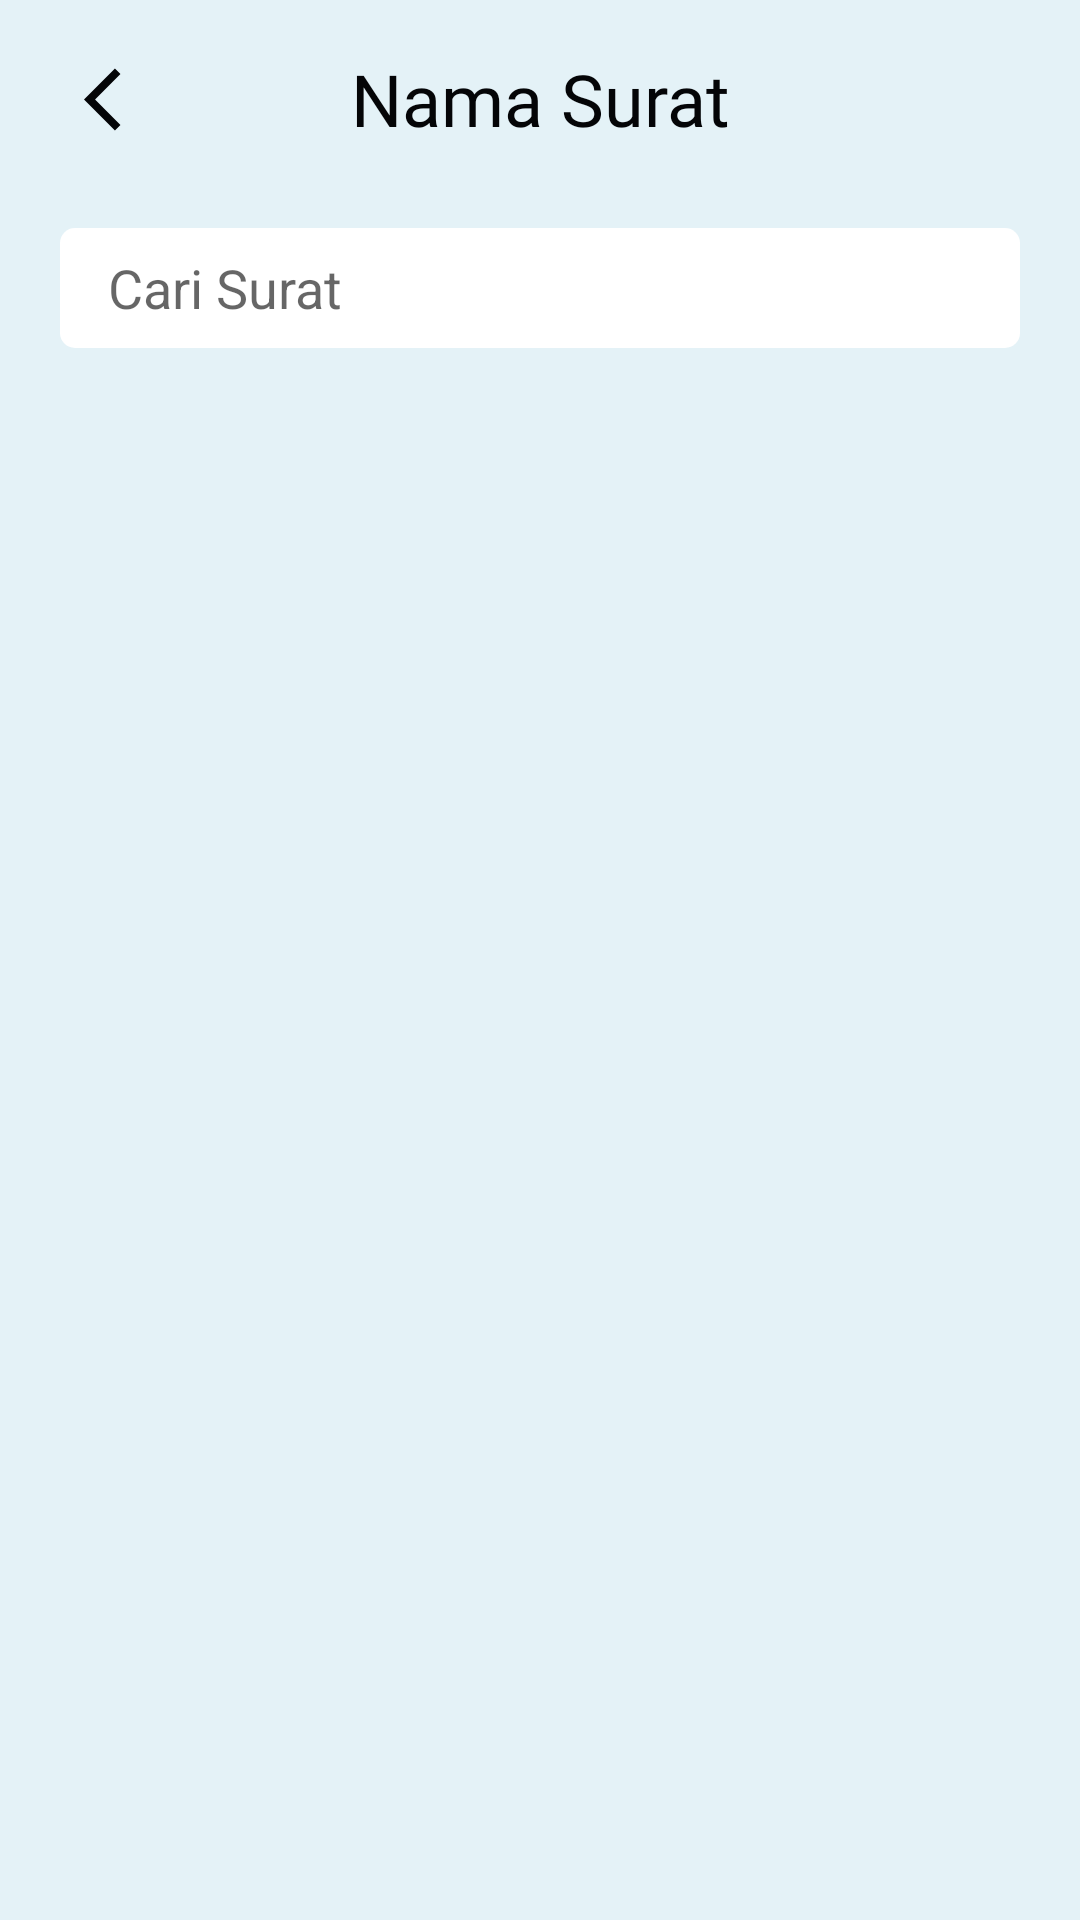

Icon bounding boxes for this 1080px x 1920px phone screenshot, format (x1, y1, x2, y2):
back: (84, 68, 121, 131)
